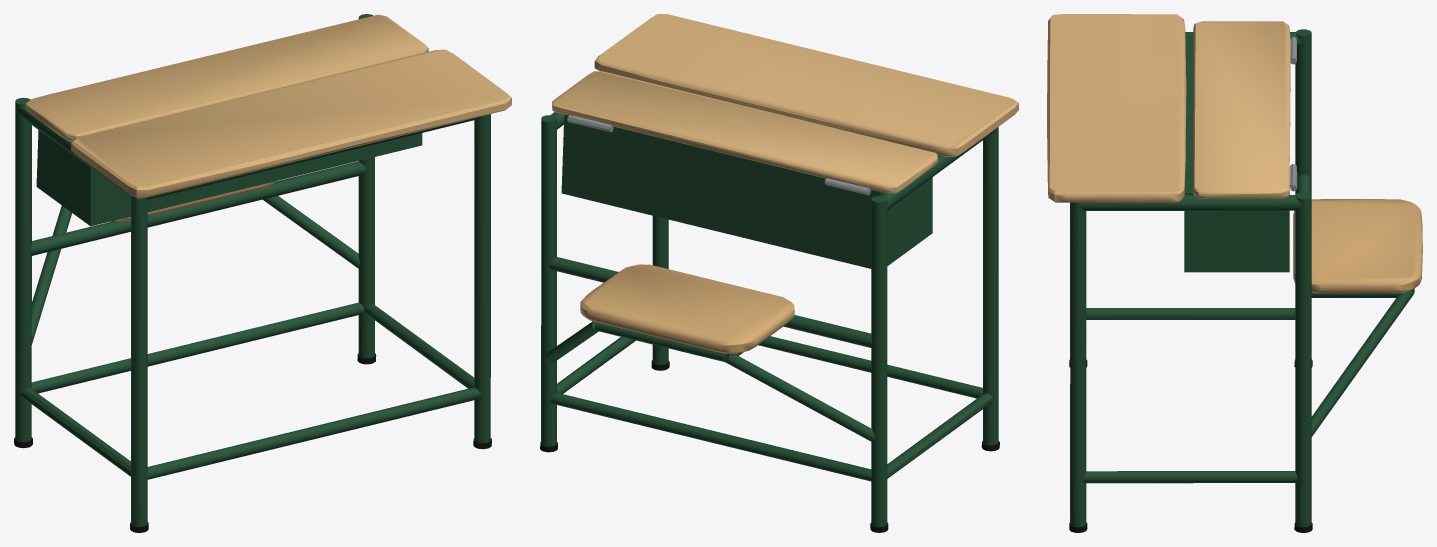
The model's file is schooldesk.glb.
3 renders of one model, left to right at view 1: azimuth 30°, elevation 25°; view 2: azimuth 150°, elevation 25°; view 3: azimuth 270°, elevation 25°, orthographic. The views are drawn at different scales.
Parts seen in each view (by area): view 1: frame, desk_top, book_lid, book_box, seat; view 2: frame, desk_top, book_box, book_lid, seat; view 3: desk_top, frame, book_lid, seat, book_box.
Part boxes in pixels (<box>): frame: <box>14,14,491,532</box>; desk_top: <box>71,49,511,198</box>; book_lid: <box>25,14,428,141</box>; book_box: <box>36,130,422,226</box>; seat: <box>114,181,275,221</box>; frame: <box>540,112,999,532</box>; desk_top: <box>594,14,1018,156</box>; book_box: <box>561,114,932,268</box>; book_lid: <box>552,71,937,195</box>; seat: <box>580,264,794,353</box>; desk_top: <box>1047,14,1186,202</box>; frame: <box>1069,29,1414,532</box>; book_lid: <box>1193,21,1297,198</box>; seat: <box>1293,199,1422,293</box>; book_box: <box>1184,35,1289,272</box>.
Bounding box in the file's own units: 0.8519 × 0.7598 × 0.7506.
